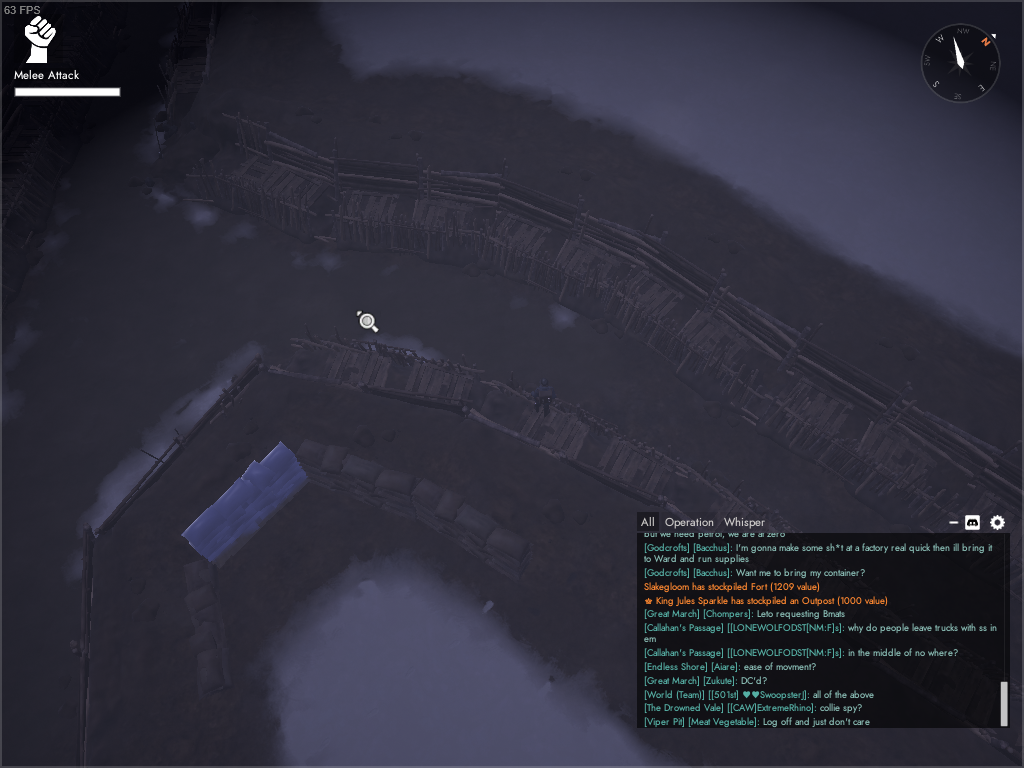player: (533, 377, 553, 419)
sandbag: (178, 441, 306, 562), (411, 477, 533, 581), (295, 438, 417, 521), (181, 560, 234, 697)
